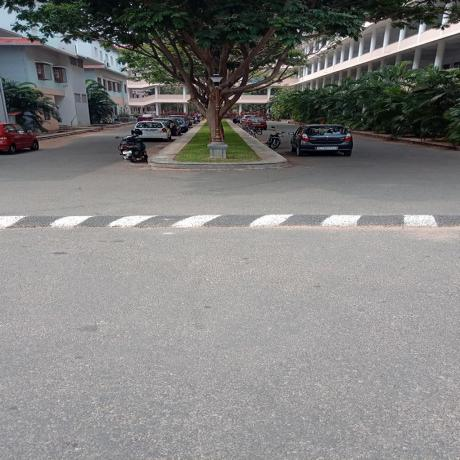Speed Bump: (0, 214, 459, 228)
